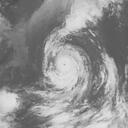cyclone: (41, 31, 95, 98)
